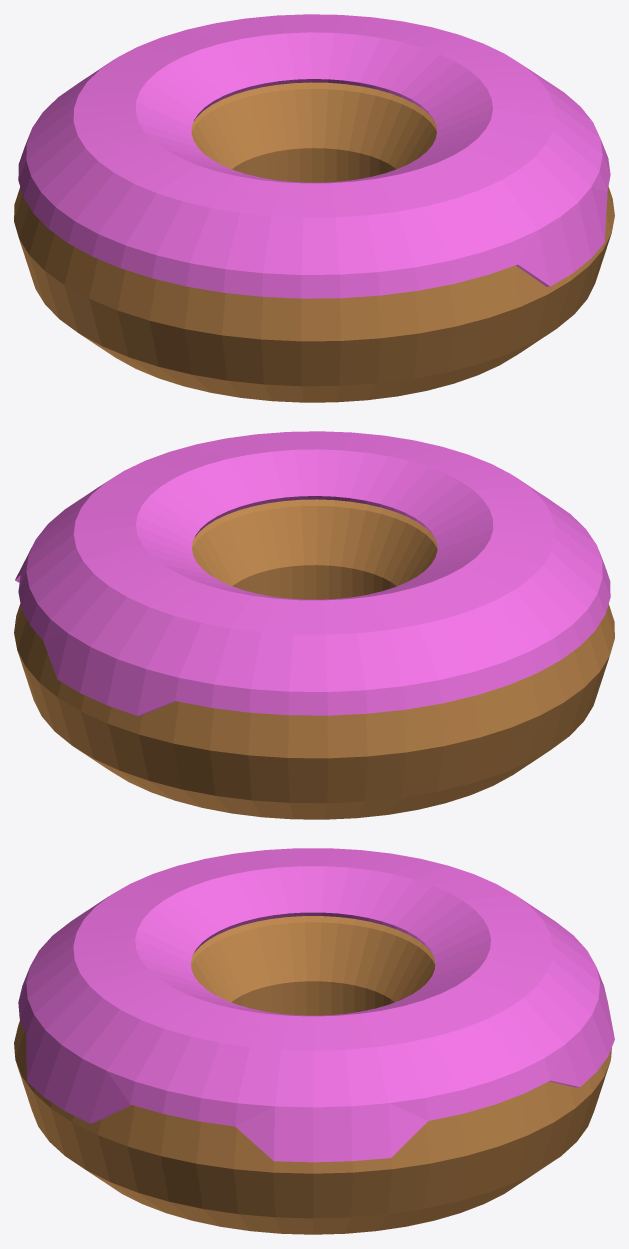
Rendered from Donut.fbx.
3 views of the same model, one above another, from view 1: azimuth 30°, elevation 25°; view 2: azimuth 150°, elevation 25°; view 3: azimuth 270°, elevation 25° (orthographic).
Visible parts, largest first — view 1: Torus.001; view 2: Torus.001; view 3: Torus.001.
Boxes of the visible parts, x1,y1,x2,y2 form: Torus.001: (14,14,614,402); Torus.001: (14,431,614,819); Torus.001: (14,848,614,1234).
Size of the model in its own units: 0.2353 by 0.0856 by 0.2322.
